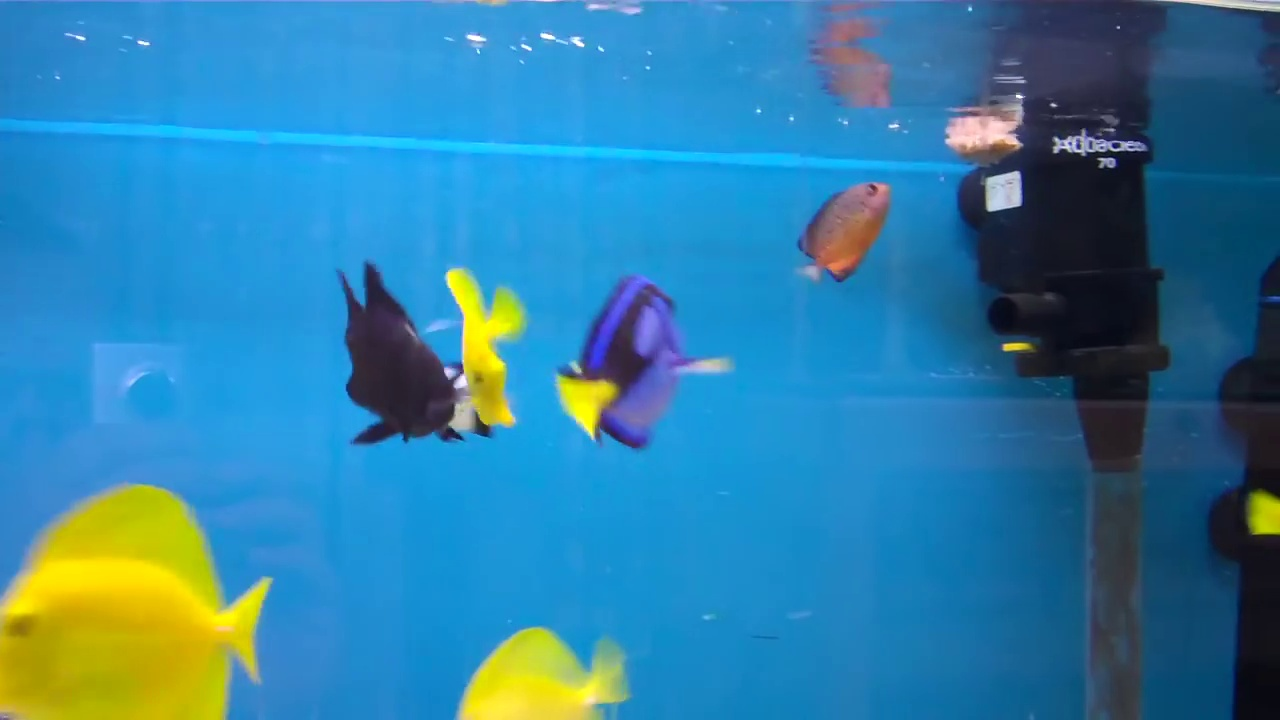blue tang surgeonfish: (557, 268, 711, 462)
saddle butterfly fish: (0, 483, 262, 720), (442, 268, 520, 428)
